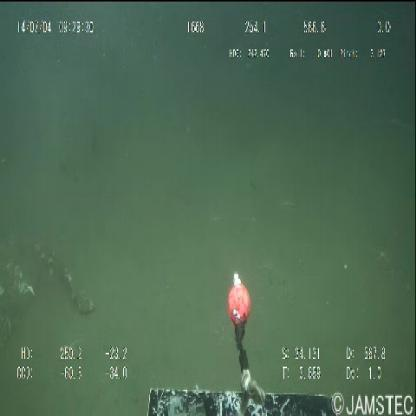Rác: (0, 234, 96, 345)
